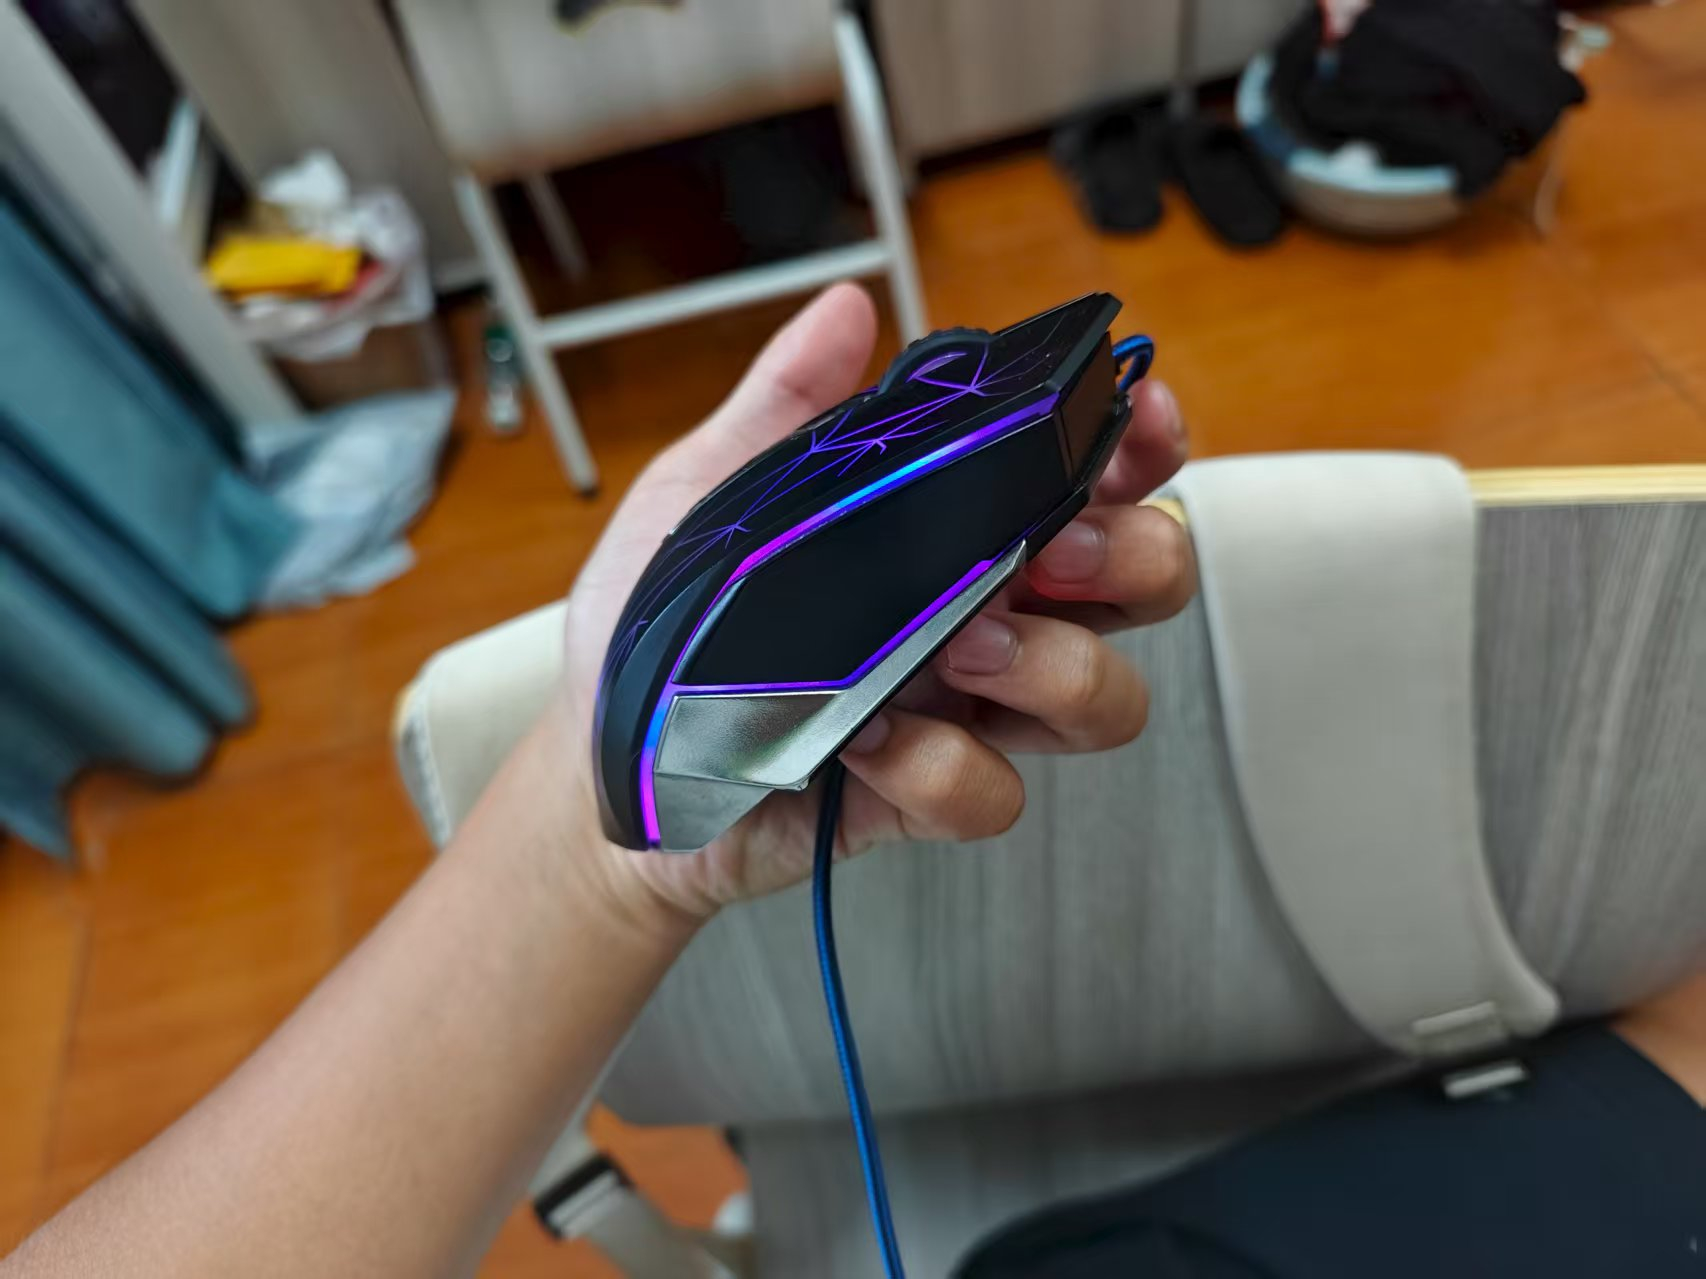mouse: (542, 273, 1202, 895)
